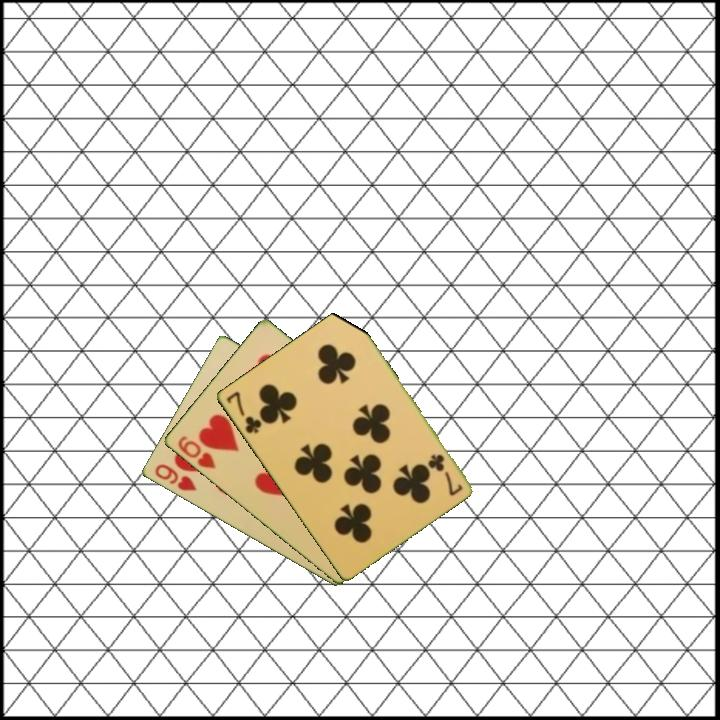6h: (174, 432, 218, 472)
7c: (222, 388, 264, 437), (425, 450, 465, 499)
9h: (151, 460, 199, 494)
